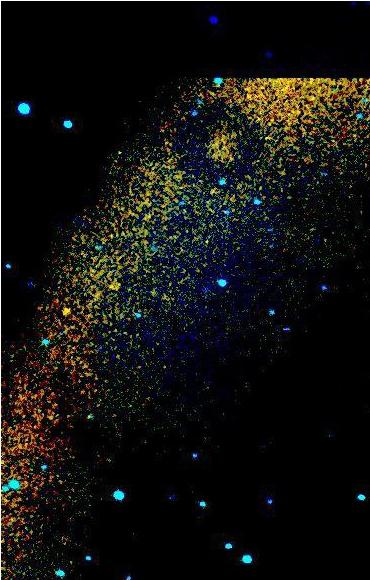star: (50, 296, 80, 326)
